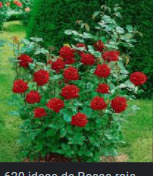RedRose: (30, 65, 50, 86), (128, 70, 148, 87), (60, 83, 79, 98), (59, 48, 77, 63), (96, 64, 111, 79)
